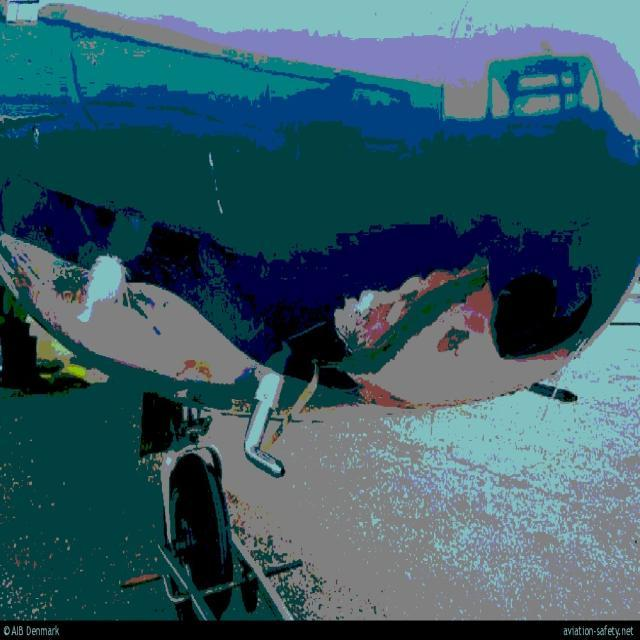dent: (157, 356, 228, 387)
